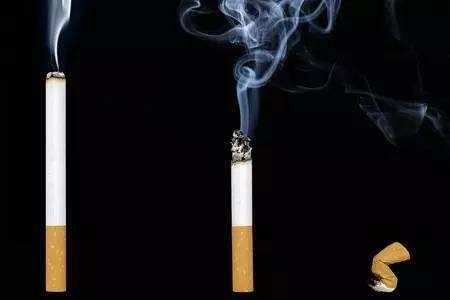Cigarette: (44, 71, 68, 292), (230, 130, 256, 292)
Smoke: (181, 1, 343, 128), (47, 0, 73, 66)
